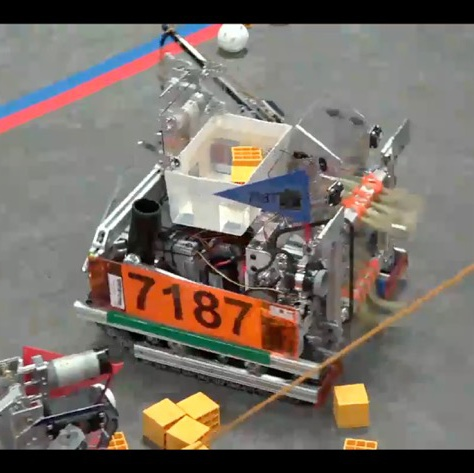robot: (65, 24, 416, 409), (0, 344, 121, 450)
